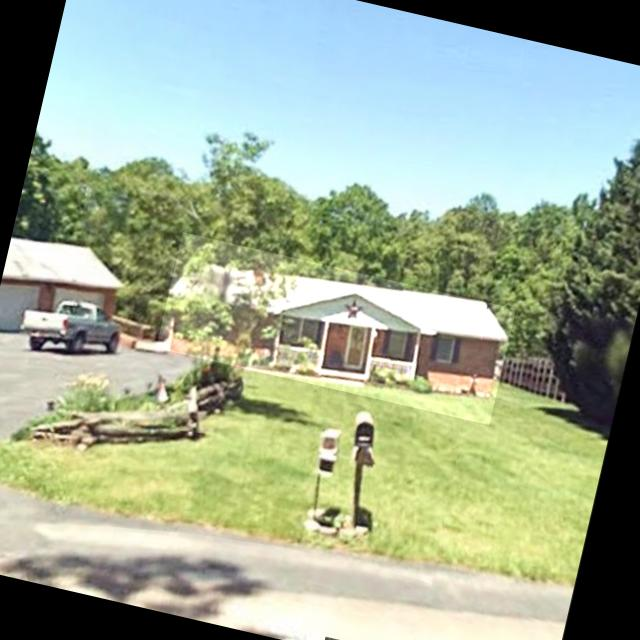House: (155, 232, 516, 424)
